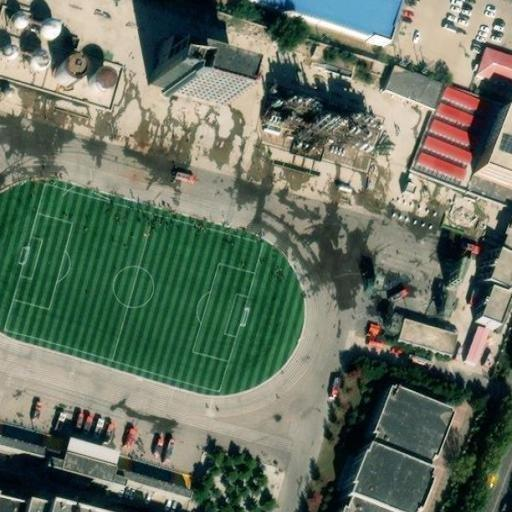building: (340, 408, 443, 512), (256, 86, 378, 167), (472, 223, 512, 337), (50, 428, 127, 485), (155, 73, 235, 122), (358, 62, 436, 110), (112, 462, 192, 507), (471, 110, 512, 190), (164, 59, 239, 94), (0, 3, 61, 44), (430, 86, 490, 122), (390, 327, 450, 363), (409, 152, 462, 185), (471, 48, 512, 90), (422, 119, 476, 150), (49, 45, 89, 85), (60, 499, 165, 512), (0, 428, 47, 457), (84, 54, 120, 90), (457, 329, 483, 371), (0, 484, 33, 512), (22, 45, 49, 71), (0, 41, 18, 63)
